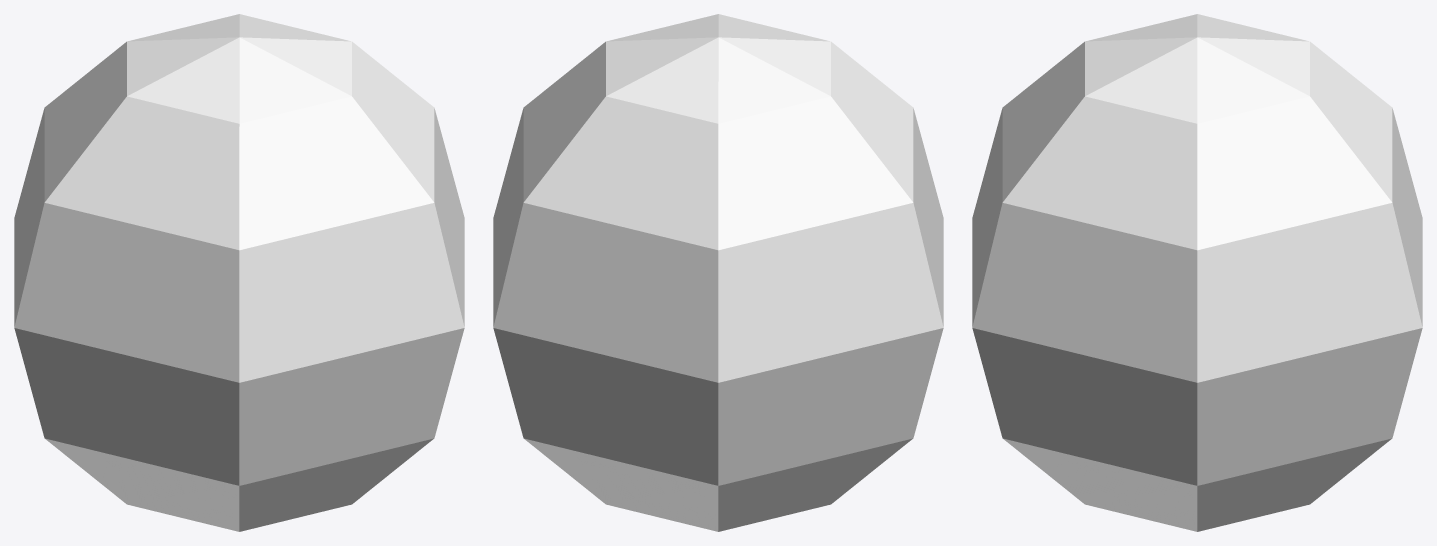
File: Bush01.fbx
3 views of the same model, side by side, from view 1: azimuth 30°, elevation 25°; view 2: azimuth 150°, elevation 25°; view 3: azimuth 270°, elevation 25° (orthographic).
Parts seen in each view (by area): view 1: Bush01; view 2: Bush01; view 3: Bush01.
Part boxes in pixels (bbox=[...]): Bush01: bbox=[14, 14, 464, 531]; Bush01: bbox=[493, 14, 943, 531]; Bush01: bbox=[972, 14, 1422, 531].
Size of the model in its own units: 0.7225 by 0.6741 by 0.6257.
